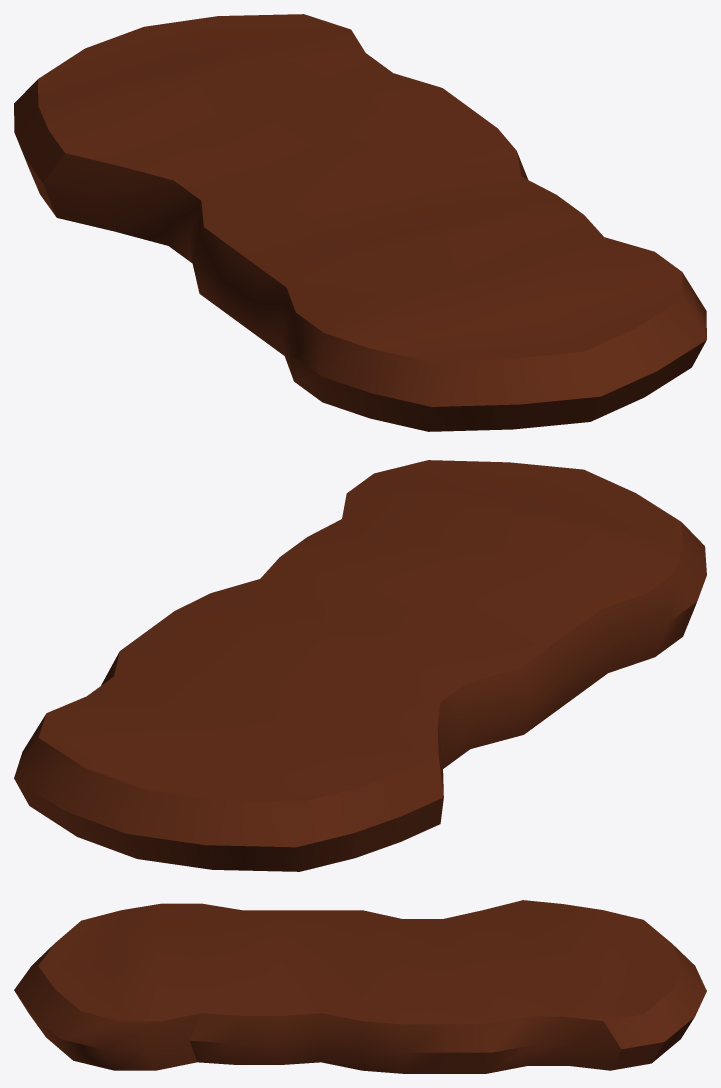
File: Carne.fbx
3 renders of one model, top to bottom at view 1: azimuth 30°, elevation 25°; view 2: azimuth 150°, elevation 25°; view 3: azimuth 270°, elevation 25°, orthographic. The views are drawn at different scales.
Parts seen in each view (by area): view 1: Carne; view 2: Carne; view 3: Carne.
Part boxes in pixels (left/top/right/bottom): Carne: left=14, top=14, right=706, bottom=431; Carne: left=14, top=460, right=706, bottom=871; Carne: left=14, top=900, right=706, bottom=1073.
Bounding box in the file's own units: 4.79 × 0.9834 × 10.51.
